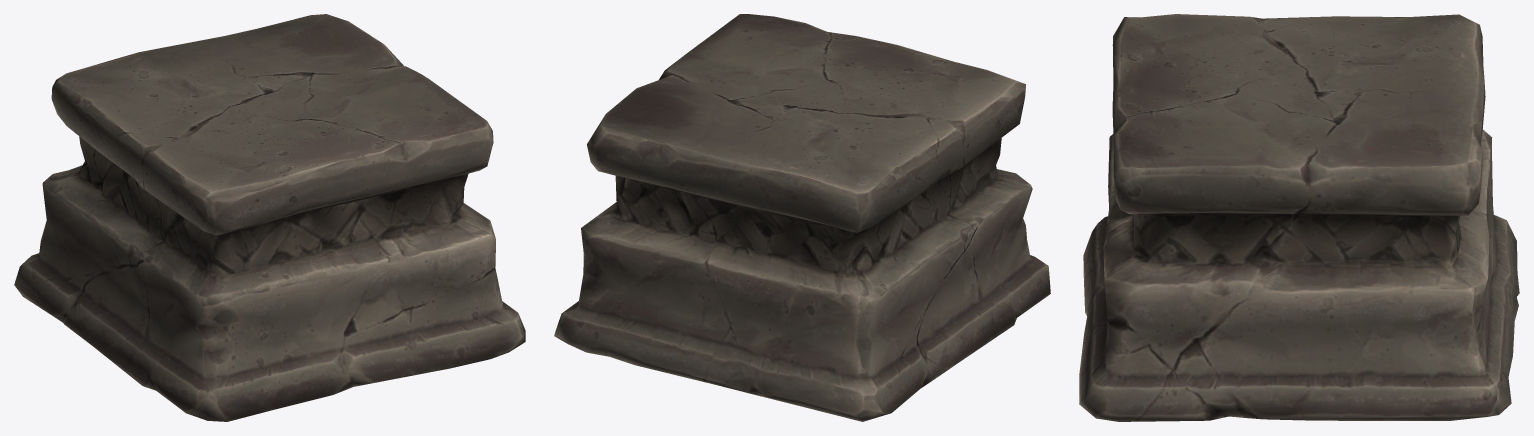
The model's file is Pillar_Base_A.fbx.
The picture shows the model from 3 angles, left to right: view 1: azimuth 30°, elevation 25°; view 2: azimuth 150°, elevation 25°; view 3: azimuth 270°, elevation 25°; orthographic projection. The views are drawn at different scales.
Visible parts, largest first — view 1: Dn_HL_UND_Pillar_Base_A.001; view 2: Dn_HL_UND_Pillar_Base_A.001; view 3: Dn_HL_UND_Pillar_Base_A.001.
Part boxes in pixels (<box>): Dn_HL_UND_Pillar_Base_A.001: <box>14,14,525,421</box>; Dn_HL_UND_Pillar_Base_A.001: <box>554,14,1050,421</box>; Dn_HL_UND_Pillar_Base_A.001: <box>1079,14,1519,421</box>.
Size of the model in its own units: 4643 by 2873 by 4698.
